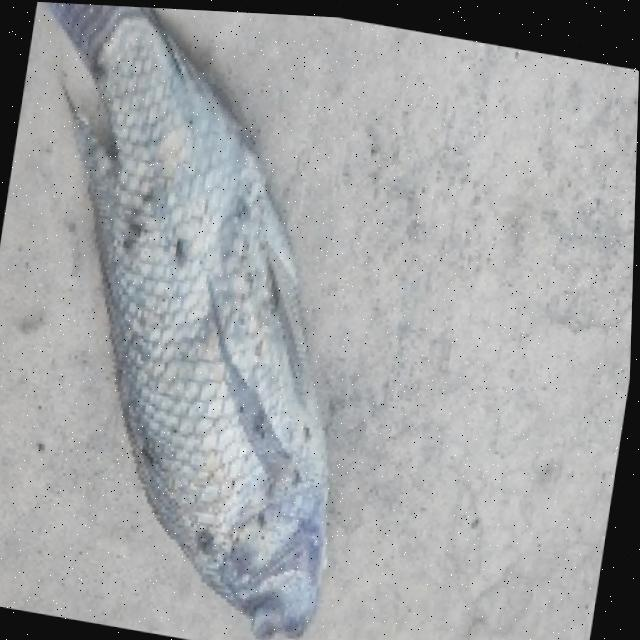Non-Fresh: (0, 0, 418, 640)
